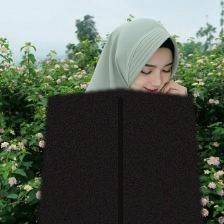Cadar_Niqab: (37, 18, 203, 224)
